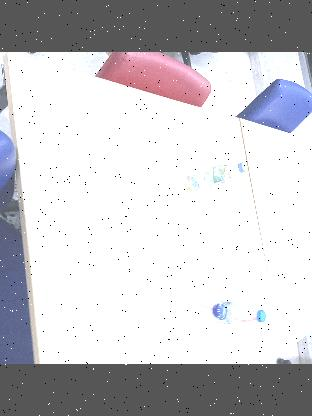Plastic Bottle: (185, 299, 267, 327), (186, 162, 248, 194)
